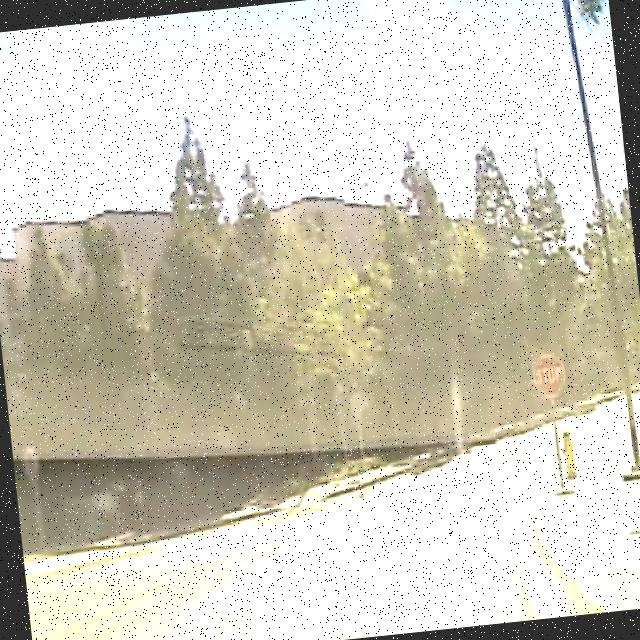Stop: (528, 350, 568, 398)
